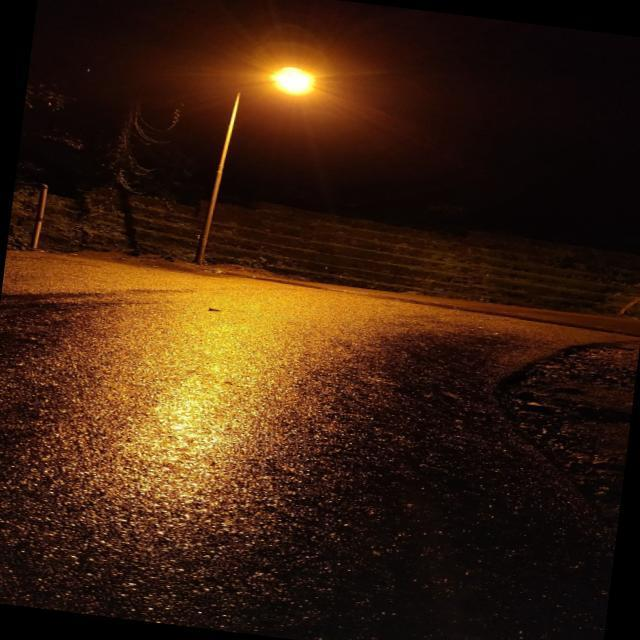on: (267, 45, 331, 121)
